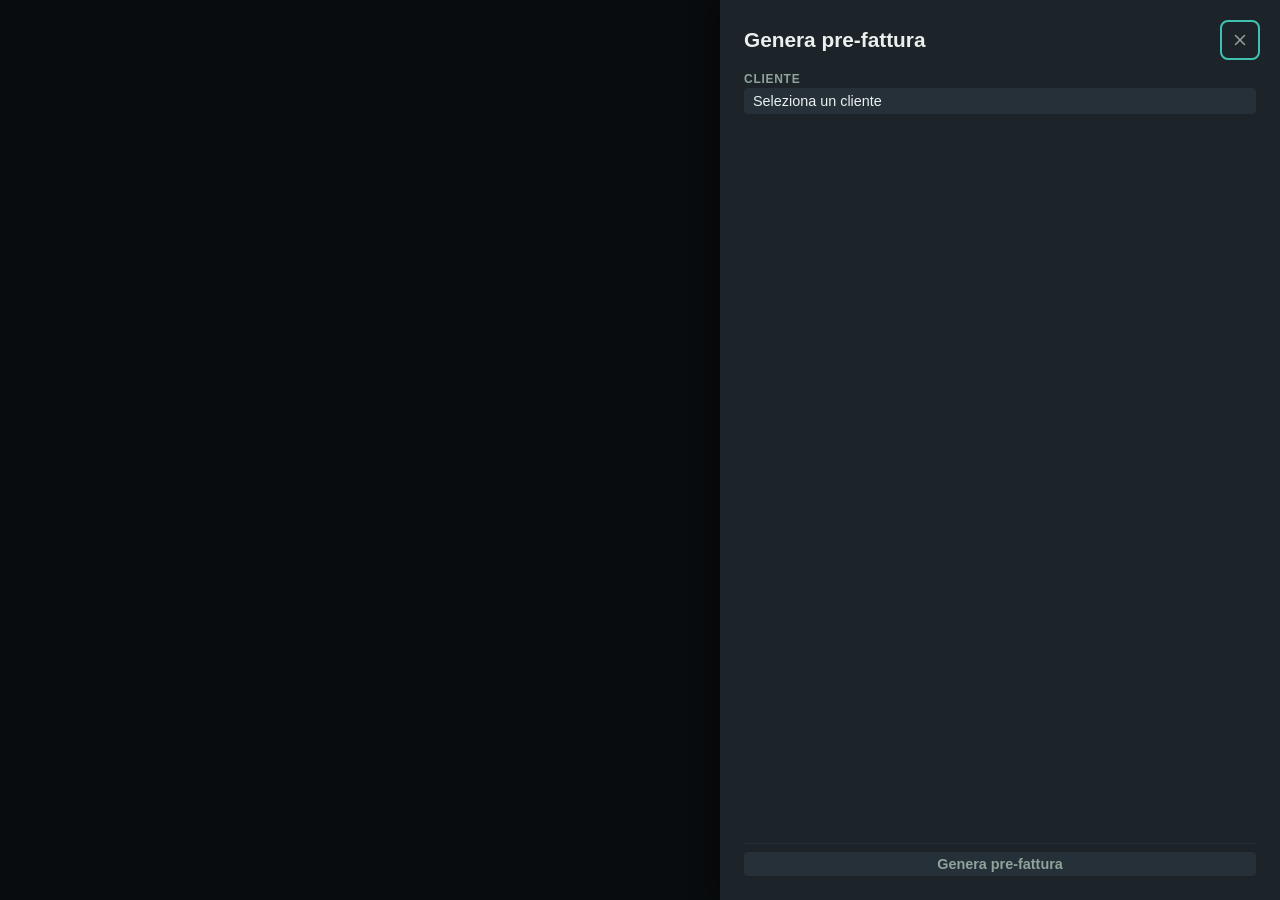
Test: GenerateInvoiceDrawerComponent › disabilita 'Genera pre-fattura' e la checkbox non fatturabile finché il task non è incluso
Select "Cliente Uno" in the dropdown labelled "Cliente" at (1000, 101), box [744,88,1256,114]
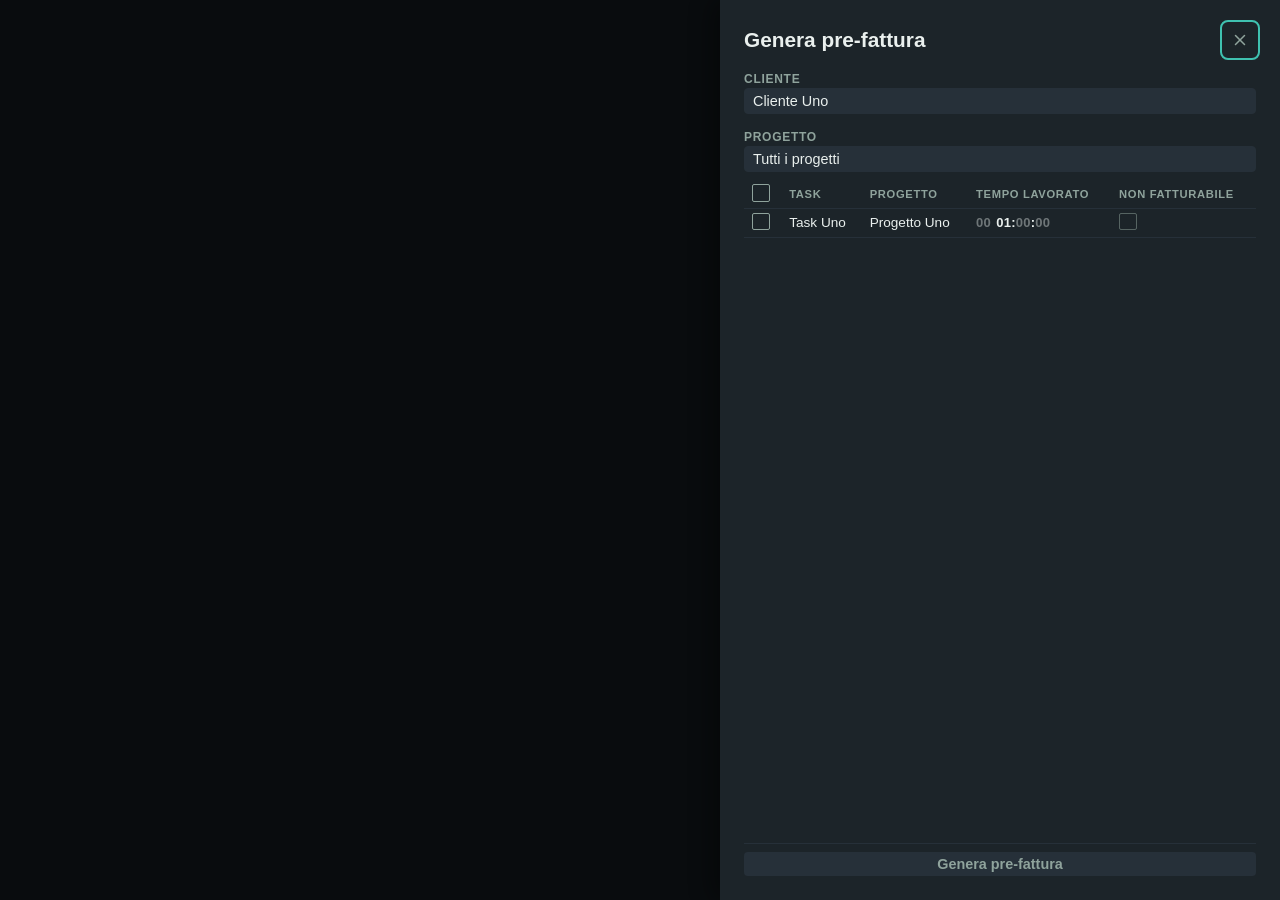
expect the button "Genera pre-fattura" is disabled: met, box [744,852,1256,876]
expect the checkbox named "Segna Task Uno come non fatturabile" is disabled: met, box [1119,213,1137,230]
Click the checkbox named "Includi Task Uno nella pre-fattura".
click(761, 221)  # box [752,213,770,230]
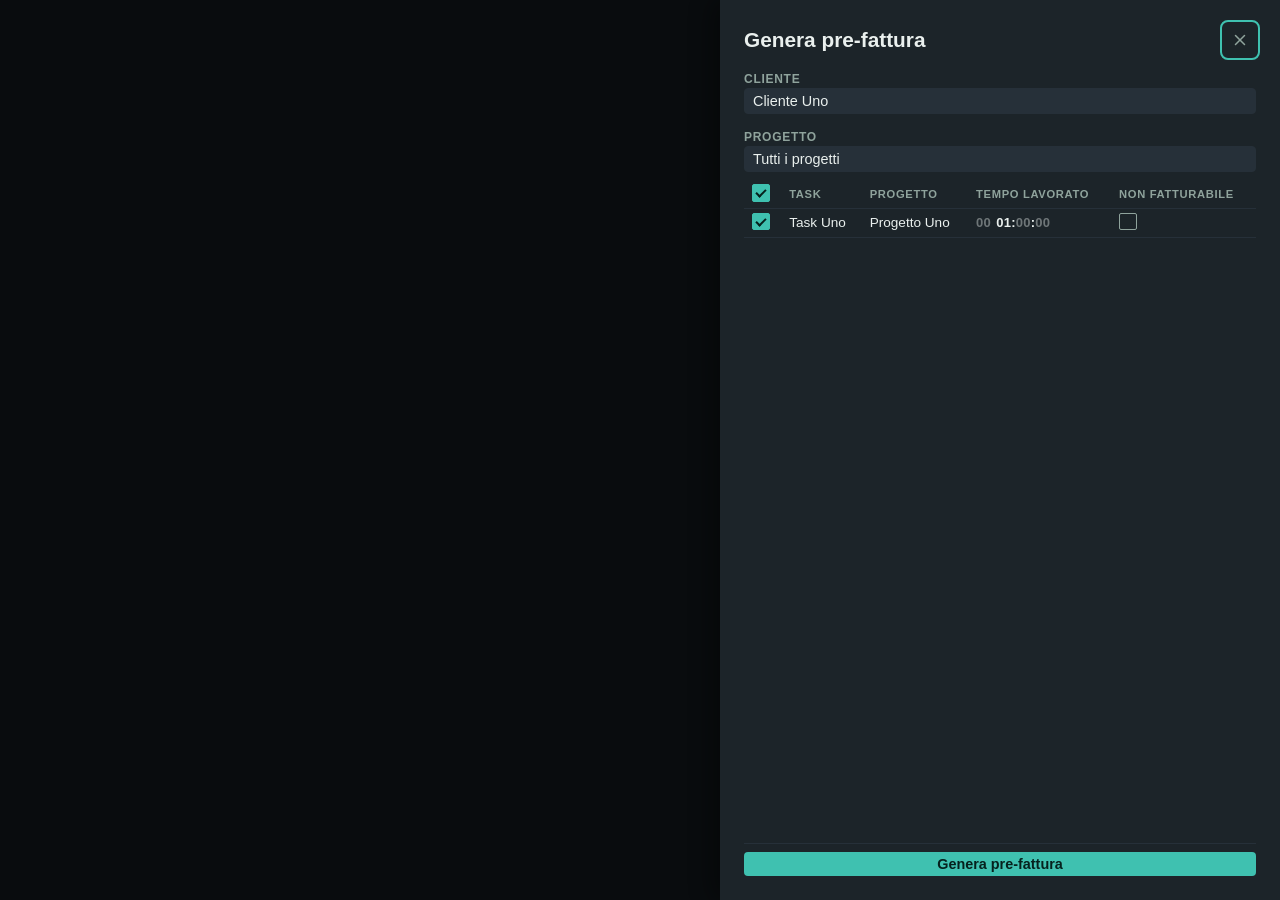
expect the button "Genera pre-fattura" is enabled: met, box [744,852,1256,876]
expect the checkbox named "Segna Task Uno come non fatturabile" is enabled: met, box [1119,213,1137,230]
